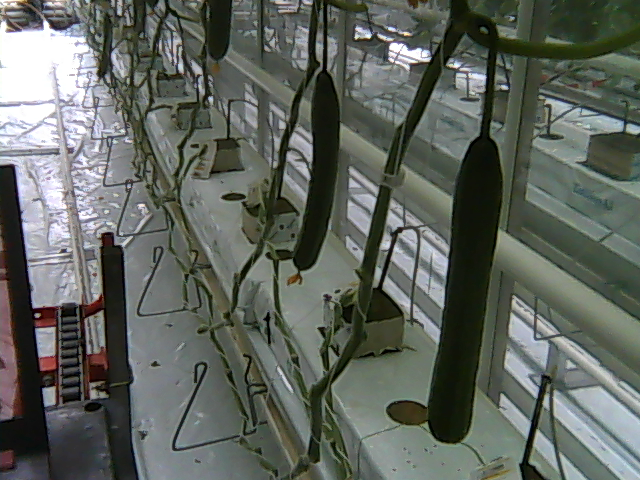concombre: (424, 128, 507, 448), (283, 55, 344, 287)
